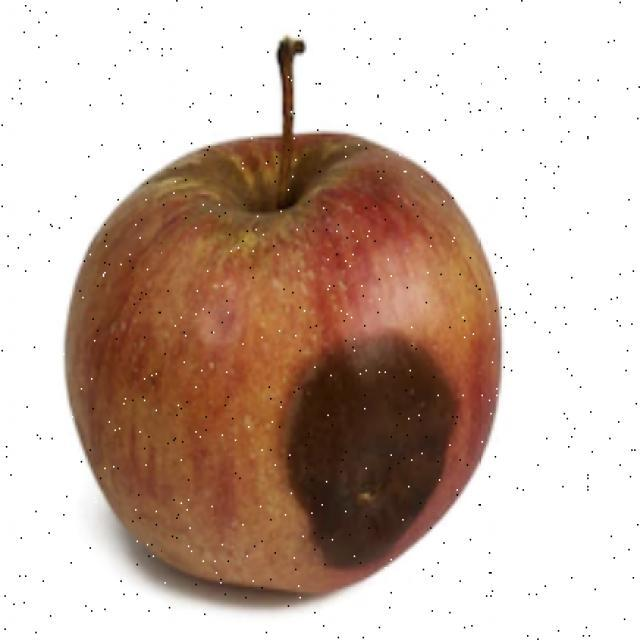Rotten: (66, 123, 502, 597)
